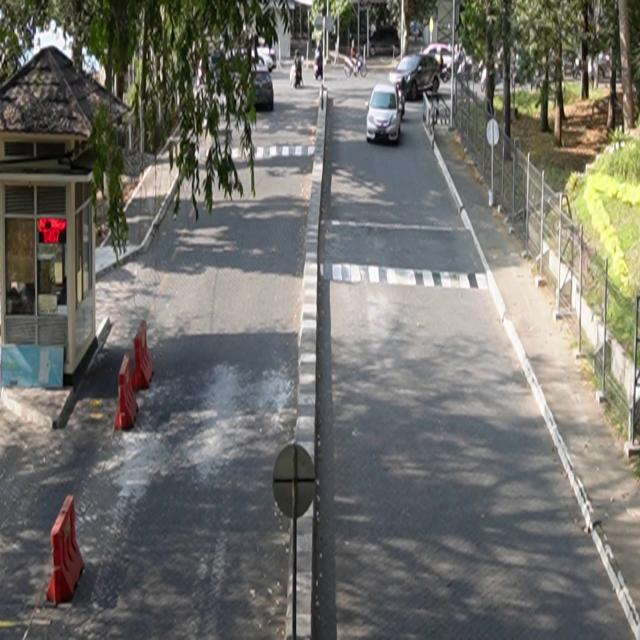car: (389, 54, 441, 102), (366, 82, 405, 145), (365, 27, 401, 59)
